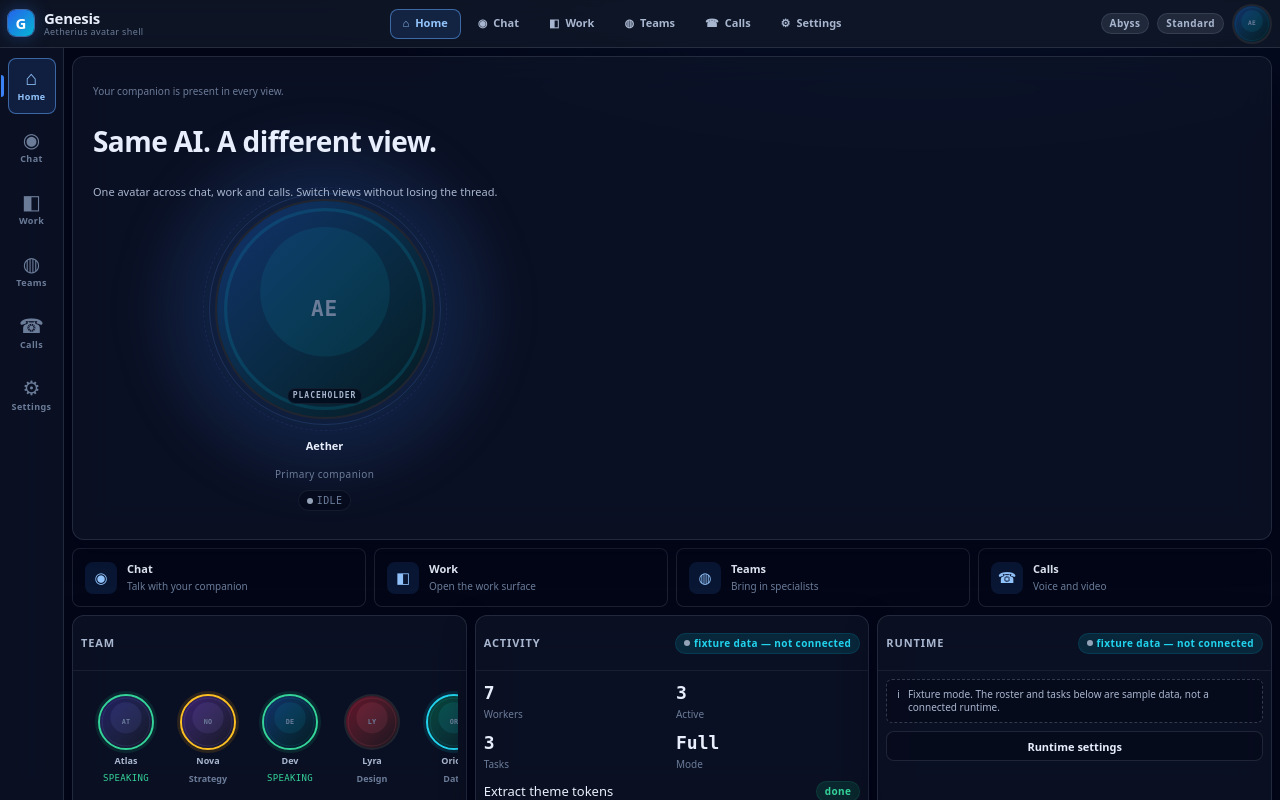
Scenario: navigation › opens worker detail from the team strip without fabricating a selection
The image size is (1280, 800).
Step 1. Click the list item with test id "team-strip-w-atlas" → (126, 740), box 89,688 -> 163,792
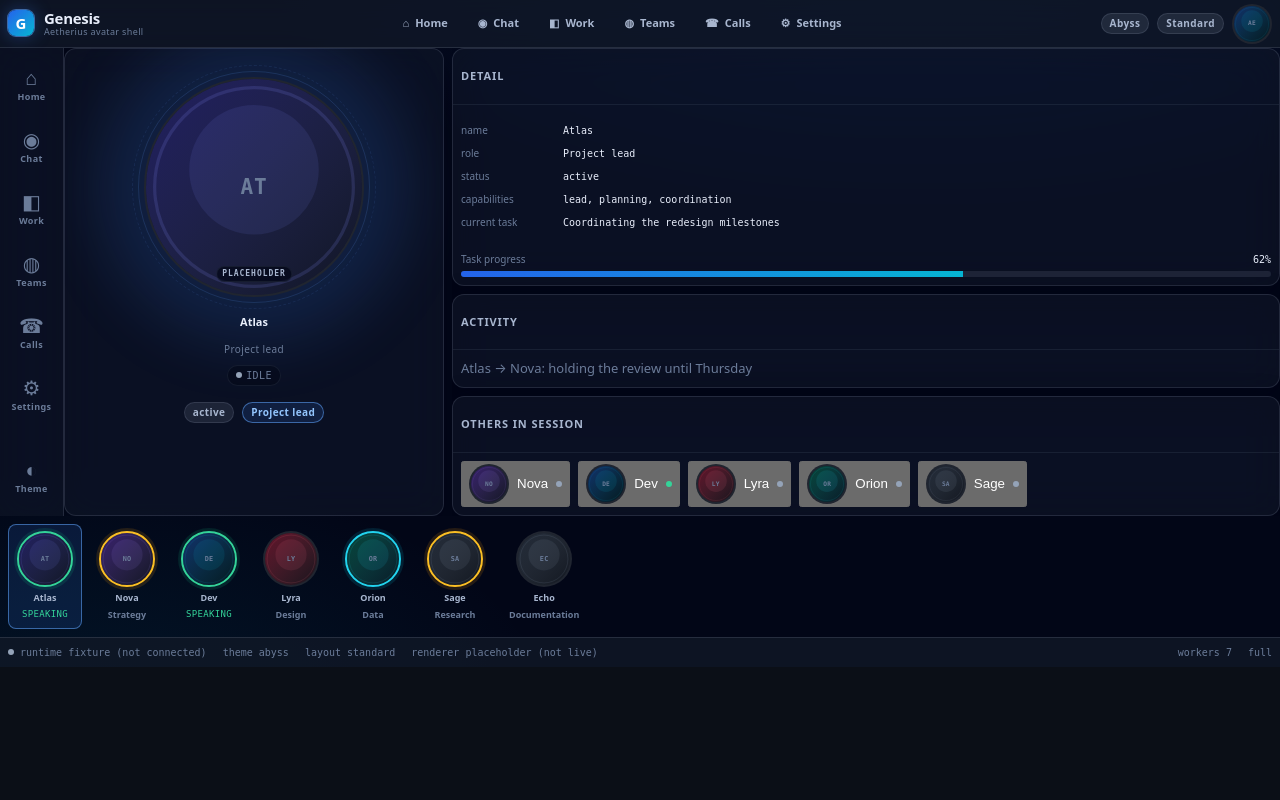
Now the element with test id "worker-detail" is shown, box 452,48 -> 1279,286
Now the element with test id "worker-stage" is shown, box 64,48 -> 444,516
